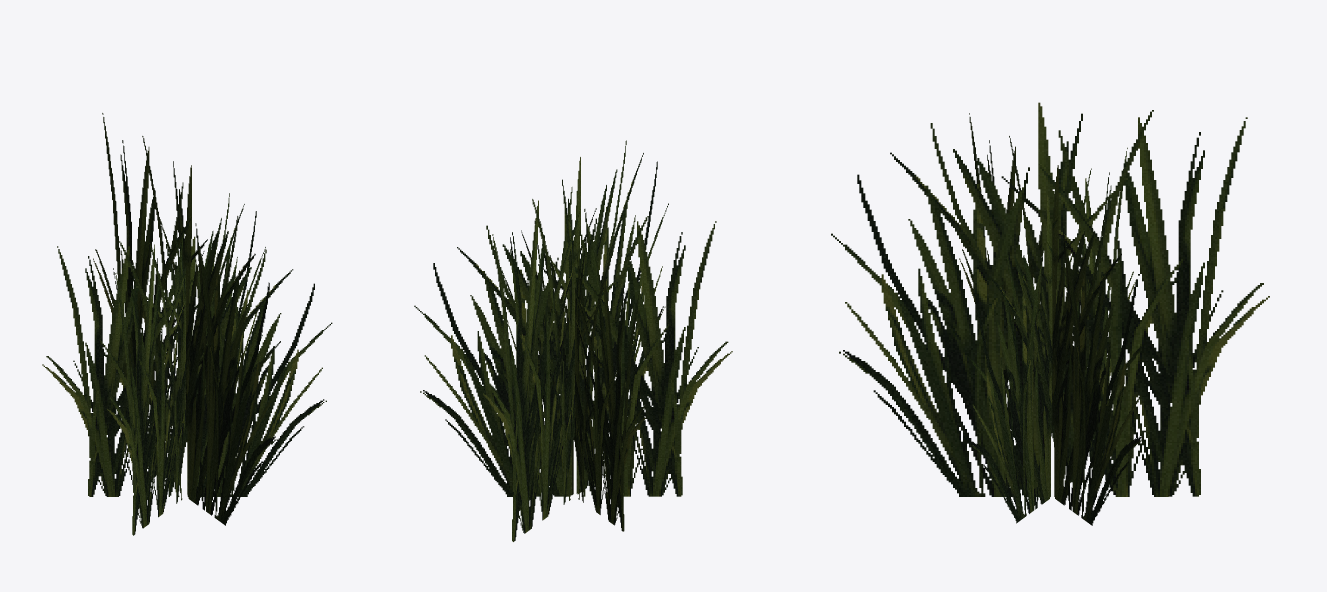
The model's file is grass_1.glb.
The picture shows the model from 3 angles, left to right: view 1: azimuth 30°, elevation 25°; view 2: azimuth 150°, elevation 25°; view 3: azimuth 270°, elevation 25°; orthographic projection. The views are drawn at different scales.
Parts seen in each view (by area): view 1: grass_1; view 2: grass_1; view 3: grass_1.
Part boxes in pixels (x1=…): grass_1: x1=42, y1=113, x2=332, y2=535; grass_1: x1=414, y1=140, x2=732, y2=541; grass_1: x1=831, y1=102, x2=1269, y2=525.
Size of the model in its own units: 0.4818 by 0.6539 by 0.6539.
1 material, 1 textured.
